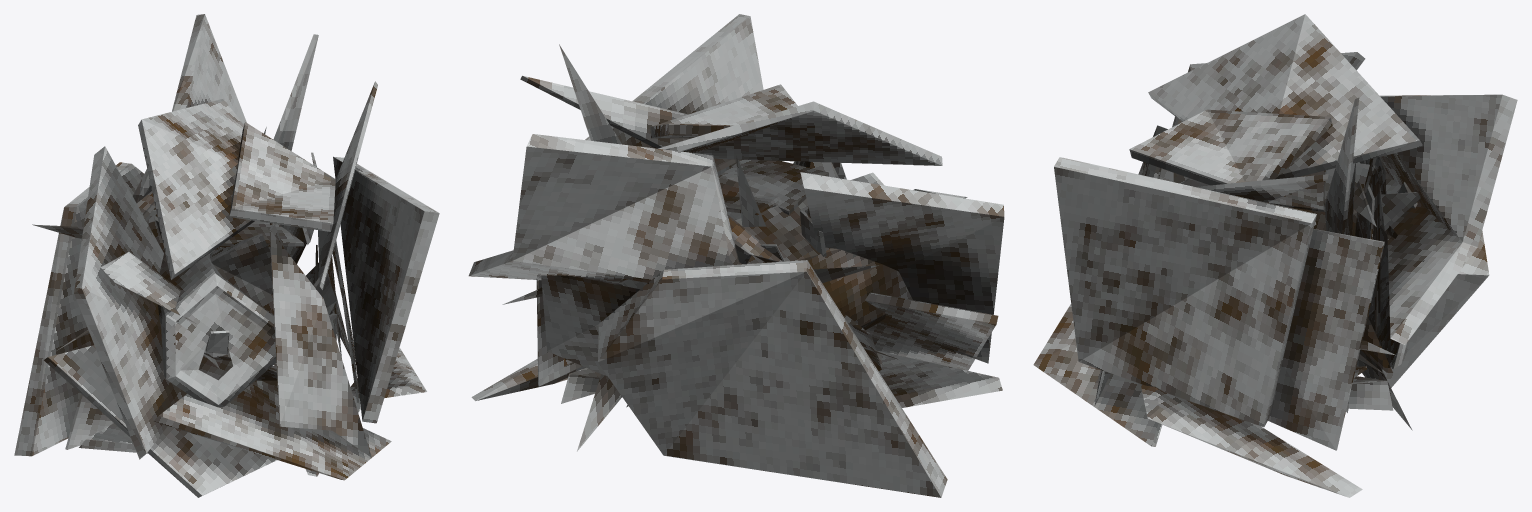
The model's file is AluminumScrap.glb.
3 renders of one model, left to right at view 1: azimuth 30°, elevation 25°; view 2: azimuth 150°, elevation 25°; view 3: azimuth 270°, elevation 25°, orthographic. The views are drawn at different scales.
Parts seen in each view (by area): view 1: Cylinder.001; view 2: Cylinder.001; view 3: Cylinder.001.
Part boxes in pixels (x1,y1,x2,y2): Cylinder.001: (14, 14, 439, 497); Cylinder.001: (468, 14, 1004, 497); Cylinder.001: (1033, 14, 1517, 497).
Size of the model in its own units: 0.2169 by 0.1695 by 0.2064.
Materials: 1 (1 with a texture image).
